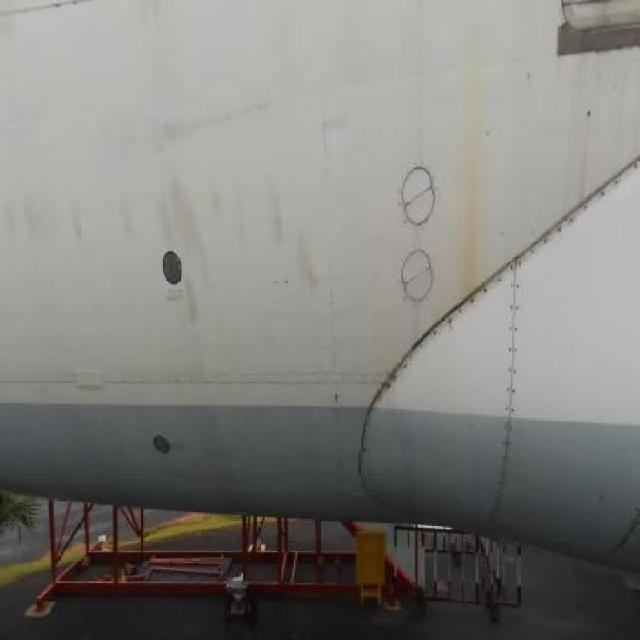Missing-Rivet: (523, 146, 640, 269), (405, 277, 503, 368), (504, 252, 522, 482)
Rust: (426, 20, 508, 318)
Scartch: (119, 166, 338, 328), (136, 93, 278, 153), (2, 172, 92, 266), (305, 87, 364, 171)
